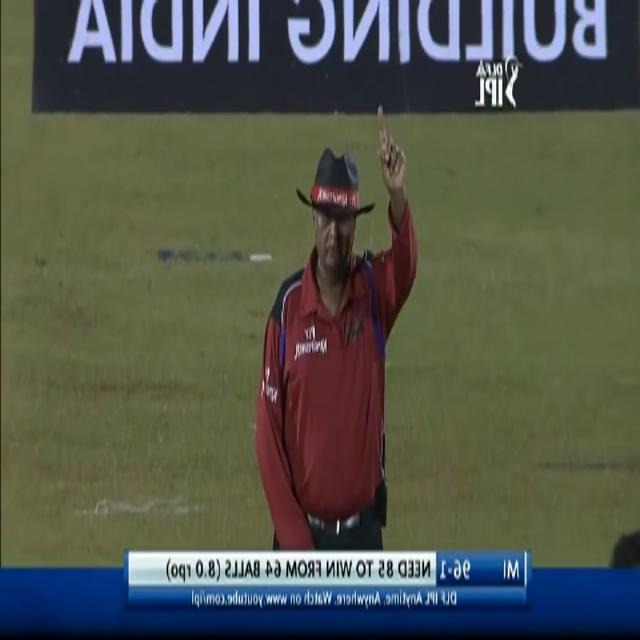Out: (248, 94, 423, 546)
